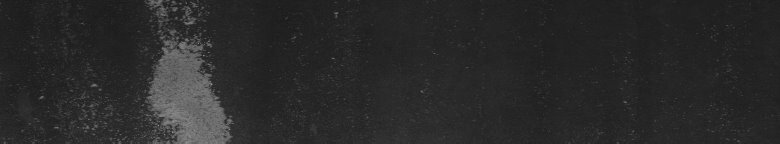kb: (148, 4, 228, 136)
